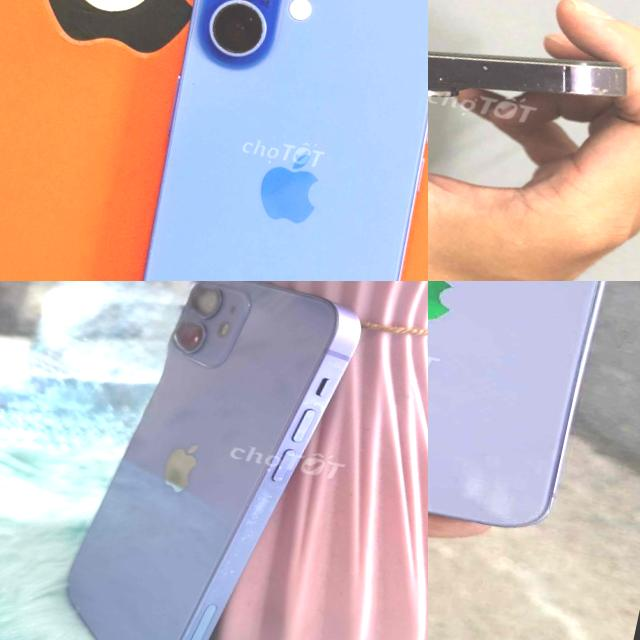scratch: (428, 0, 639, 162), (546, 69, 640, 111), (428, 24, 482, 74), (474, 60, 512, 81), (428, 68, 460, 91)
